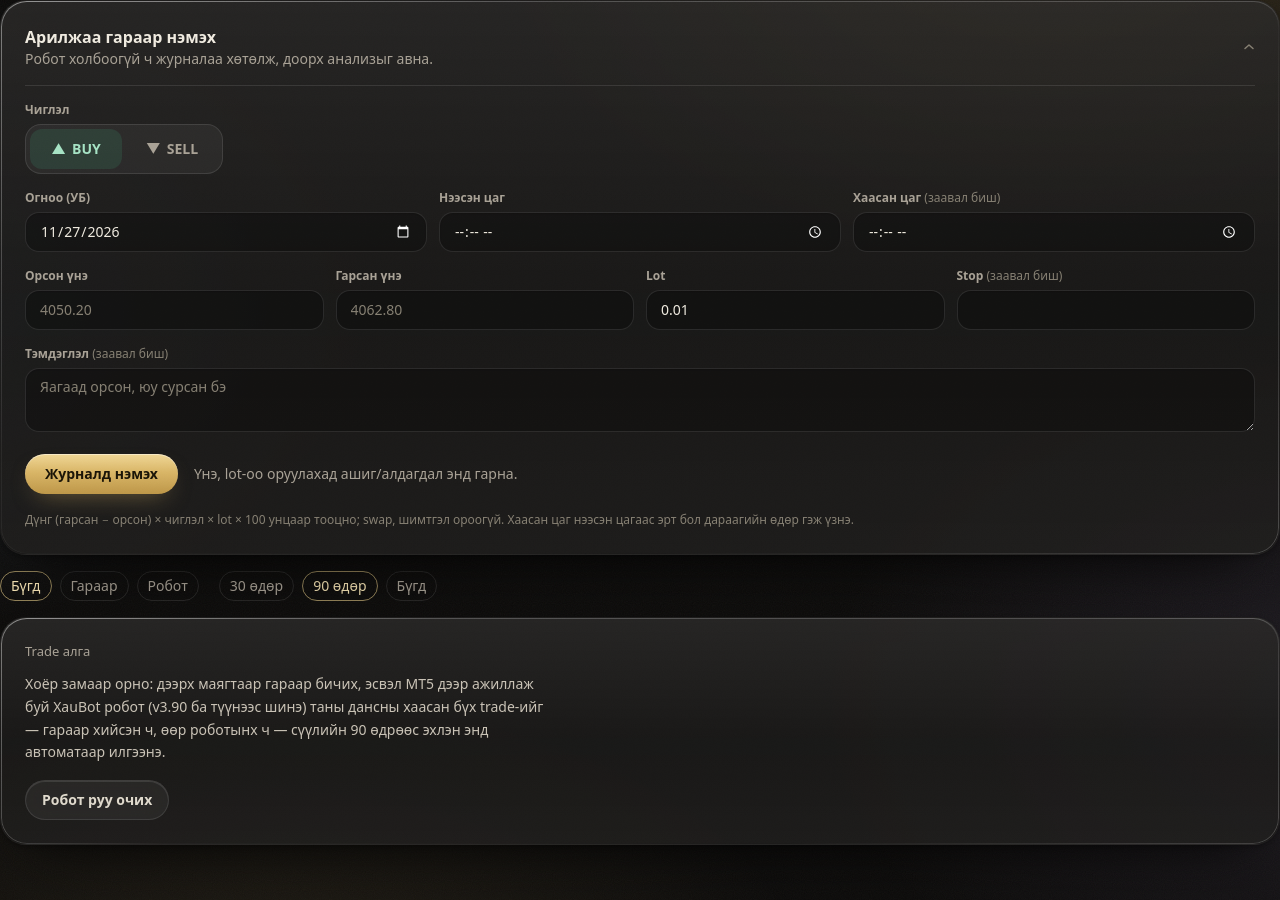
Test: the form works the P/L out as you type, with R when a stop is given
The width and height of the screenshot is (1280, 900).
Type "4000" into the field labelled "Орсон үнэ" at coordinates (174, 310), box [25,290,324,330]
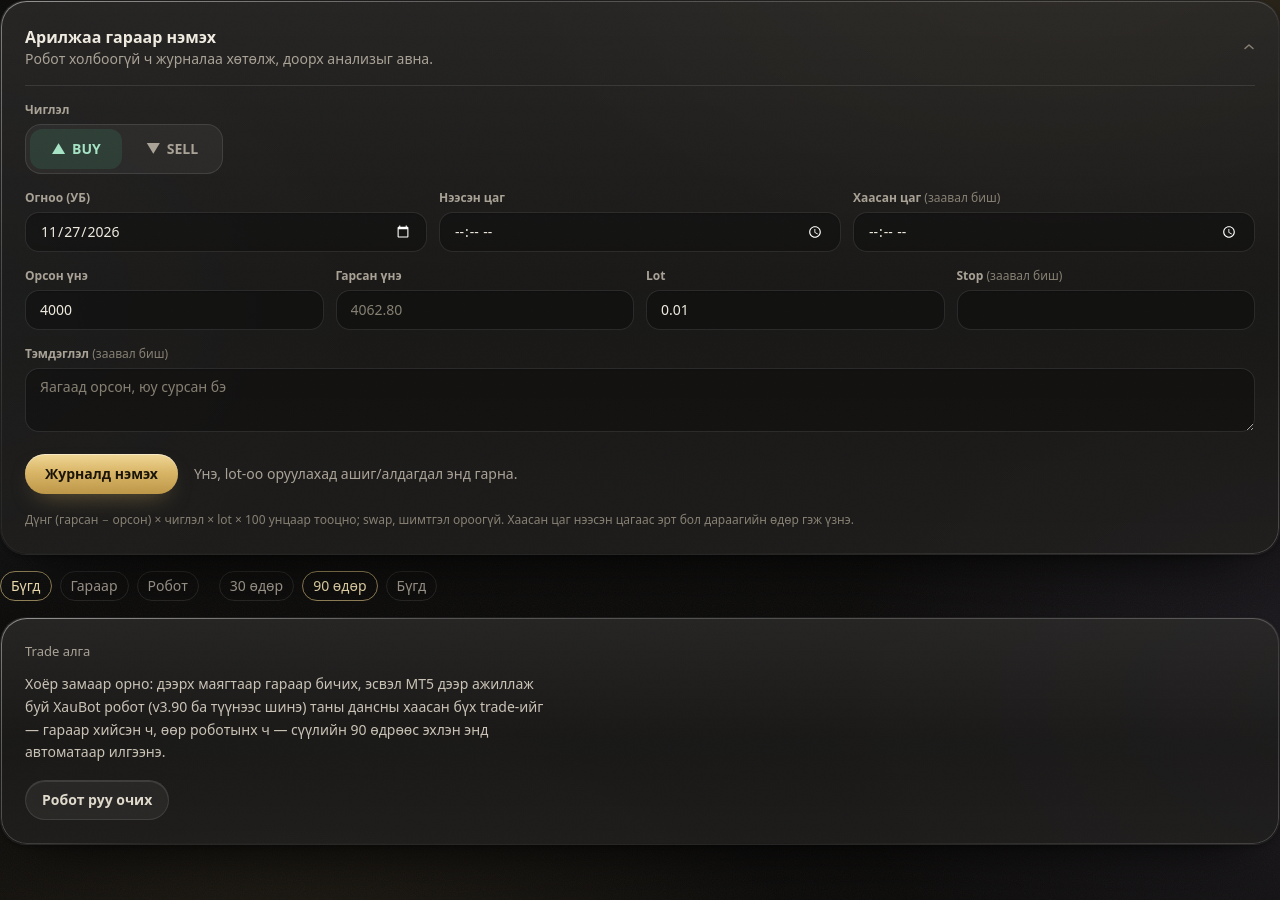
Type "4012" into the field labelled "Гарсан үнэ" at coordinates (485, 310), box [336,290,634,330]
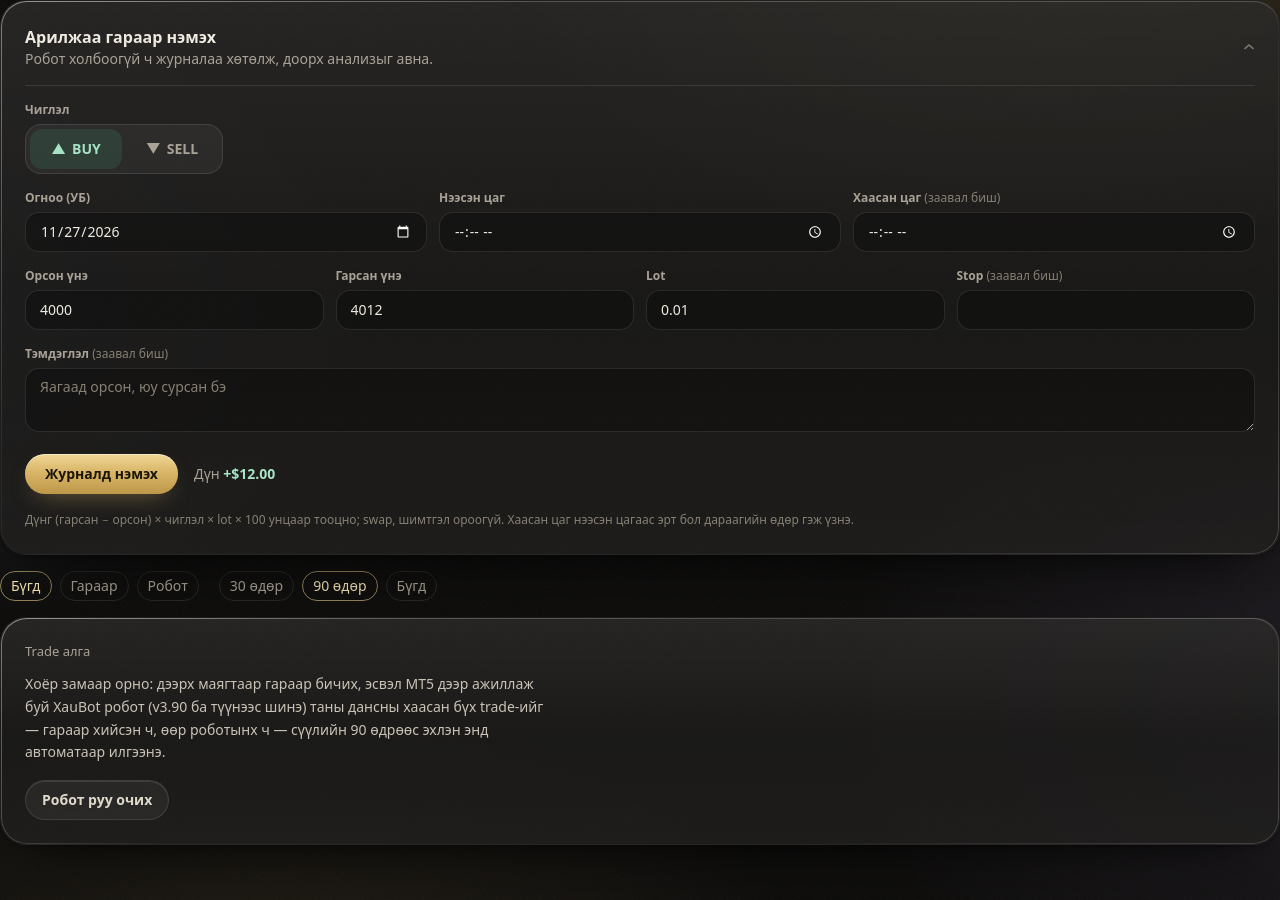
Replace the text in the field labelled "Lot" with "0.1" at coordinates (795, 310), box [646,290,944,330]
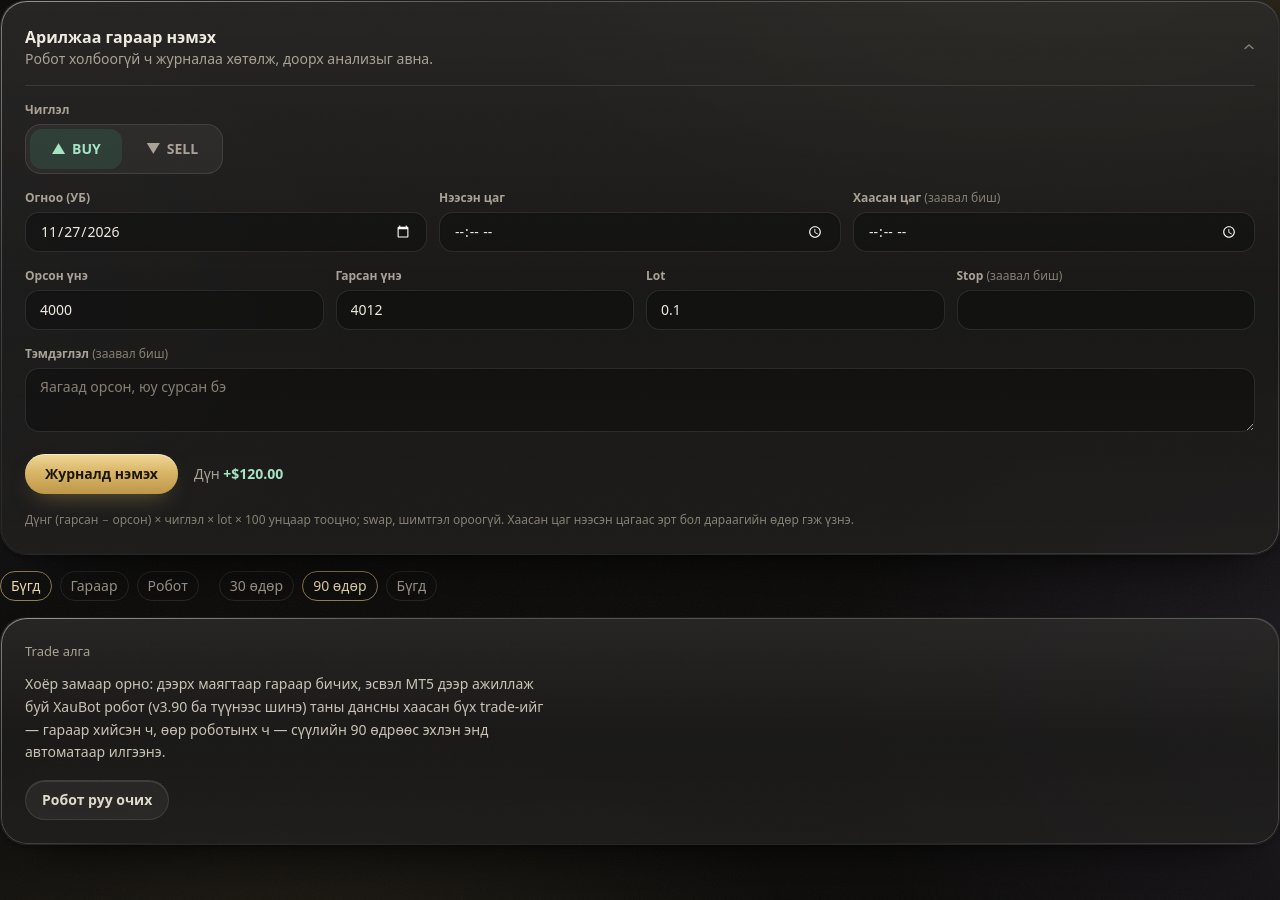
expect the text "+$120.00" is shown: met, box [223,464,283,483]
Type "3994" into the field labelled "Stop (заавал биш)" at coordinates (1106, 310), box [956,290,1255,330]
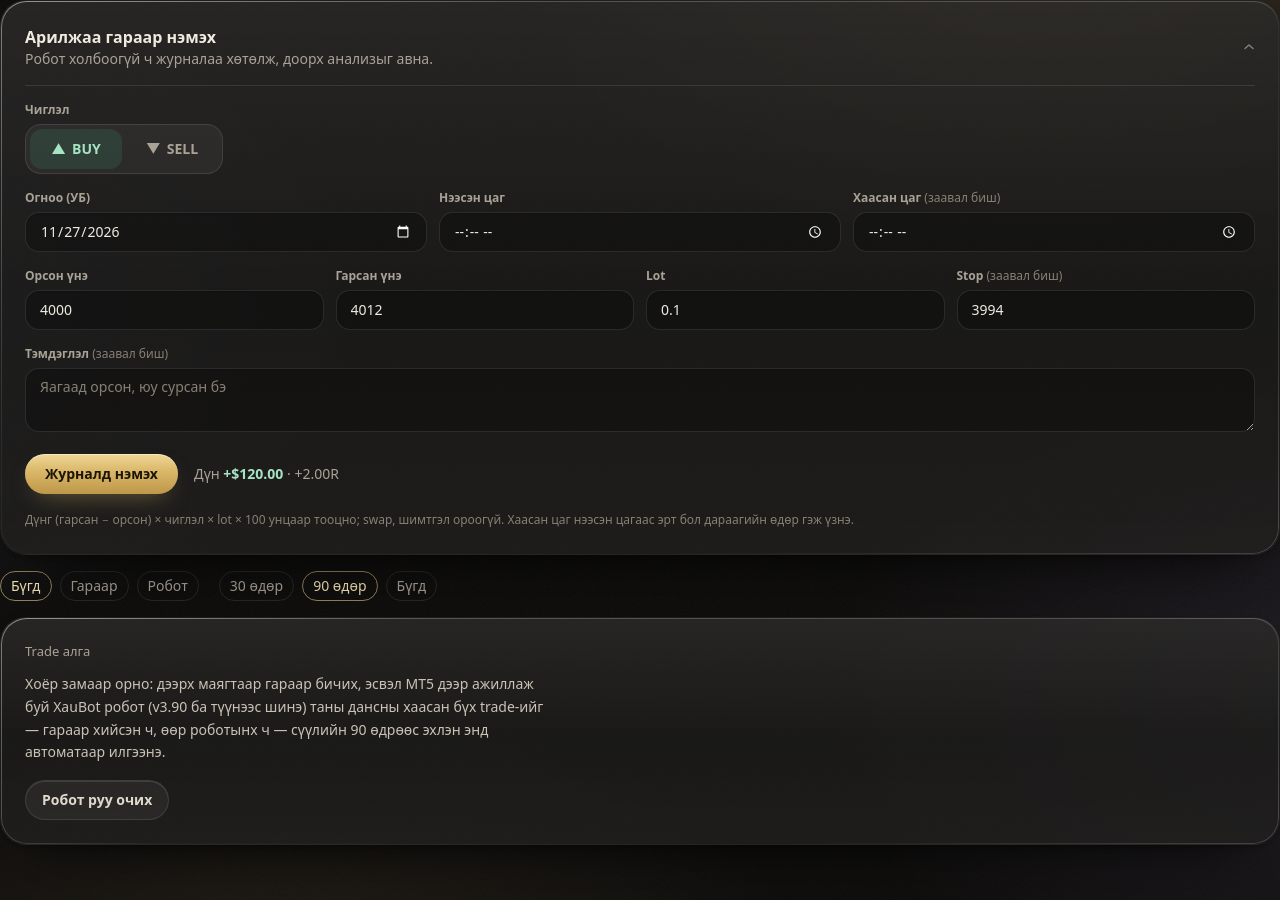
expect the text "+2.00R" is shown: met, box [194,464,339,484]
Click the radio button labelled "▼ SELL" at coordinates (172, 148), box [146,139,198,158]
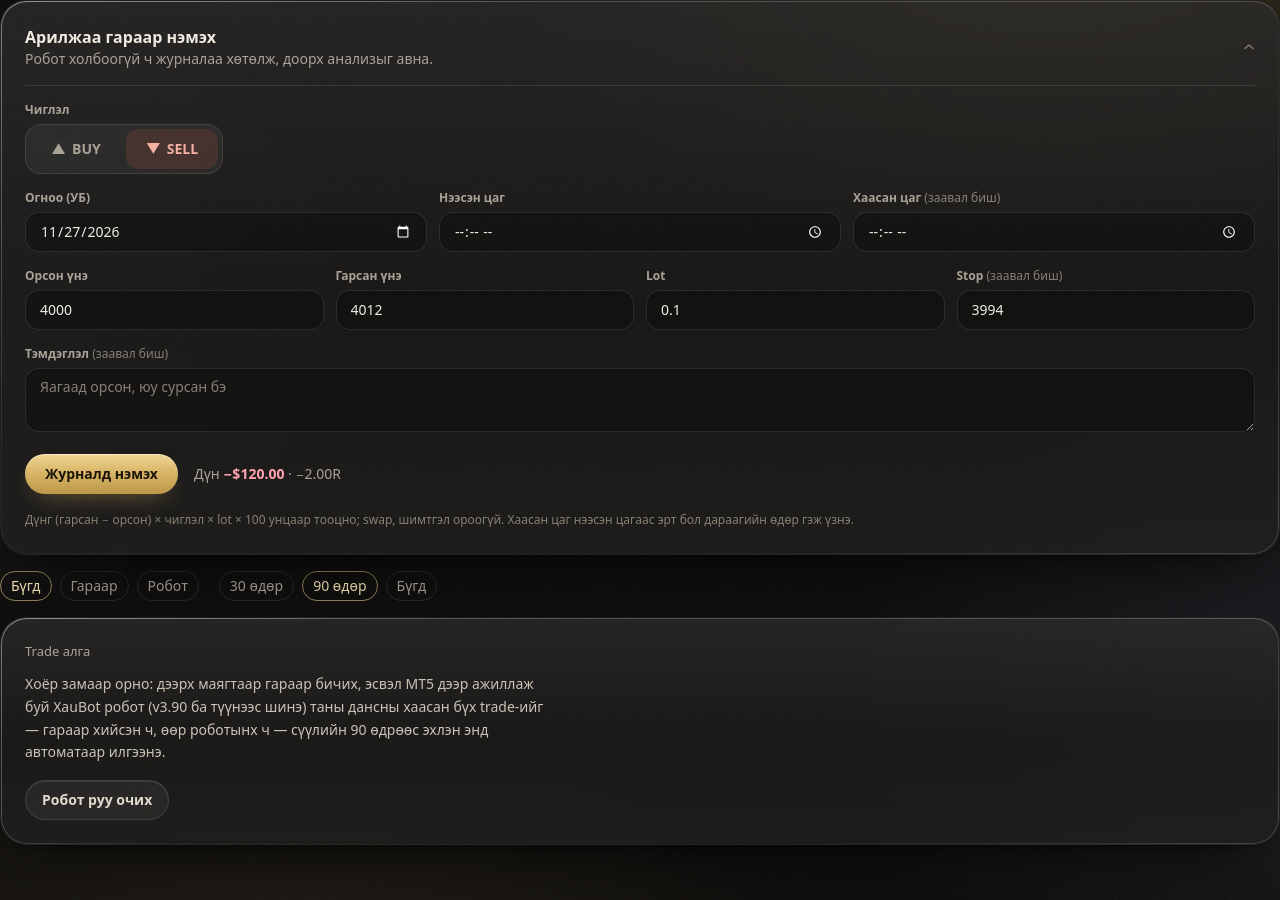
expect the text "−$120.00" is shown: met, box [223,464,284,483]
